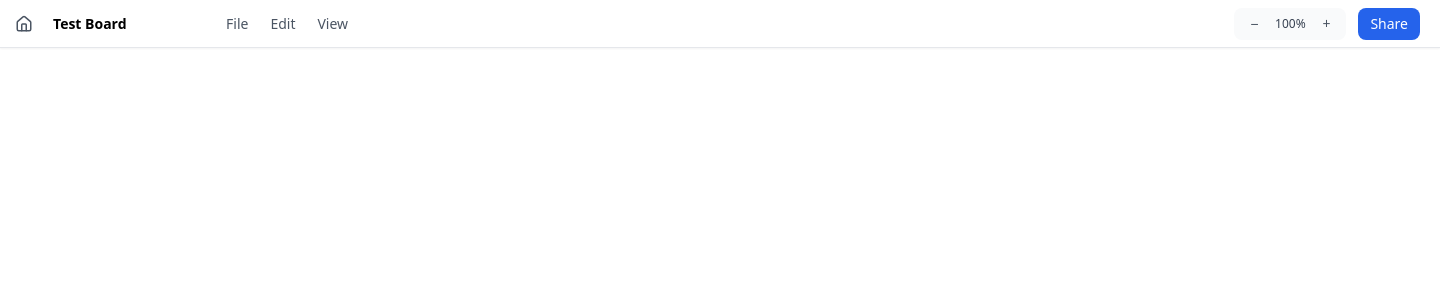
Scenario: MenuBar Edit menu — undo/redo integration › Undo menu item is disabled when canUndo=false
Click the button "Edit".
click(283, 24)  # box [260,10,306,38]
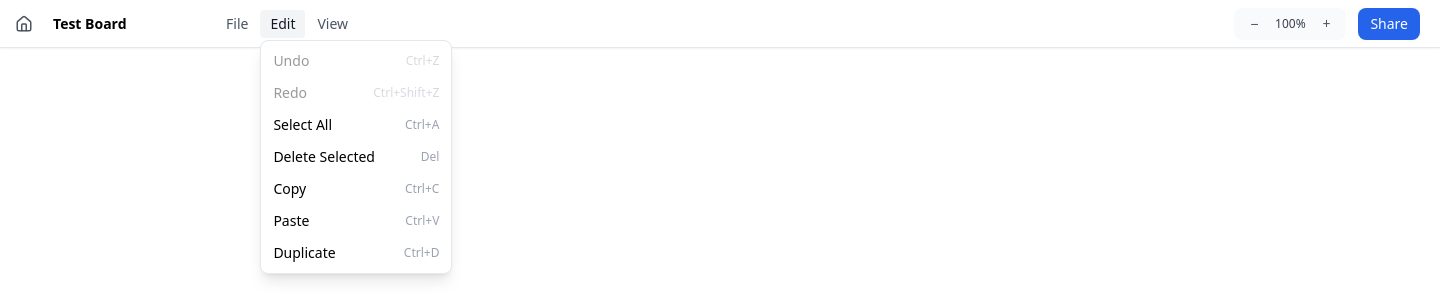
Expected: the button "Undo Ctrl+Z" is disabled, [261,44,451,76]
